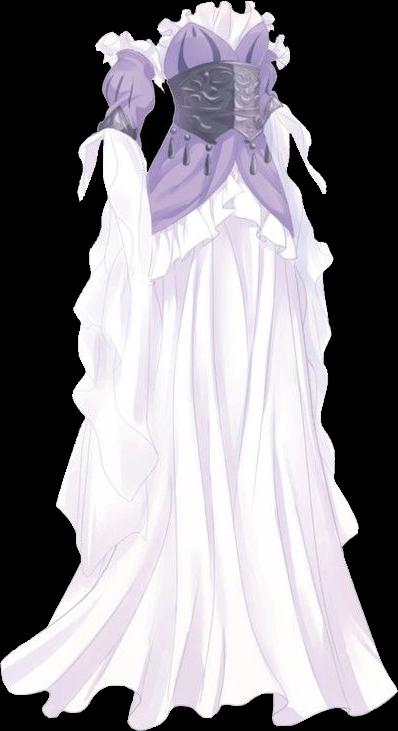Bodice: (152, 1, 273, 146)
Hemline: (0, 661, 397, 730), (106, 137, 244, 244), (231, 159, 307, 243)
Neckline: (156, 0, 274, 49), (160, 17, 269, 66), (167, 59, 266, 85)
Skirt: (0, 128, 396, 729)
Sleeve: (72, 31, 165, 503)
Sleeveline: (96, 123, 142, 145), (151, 42, 167, 86)
Waistline: (169, 126, 269, 149)
